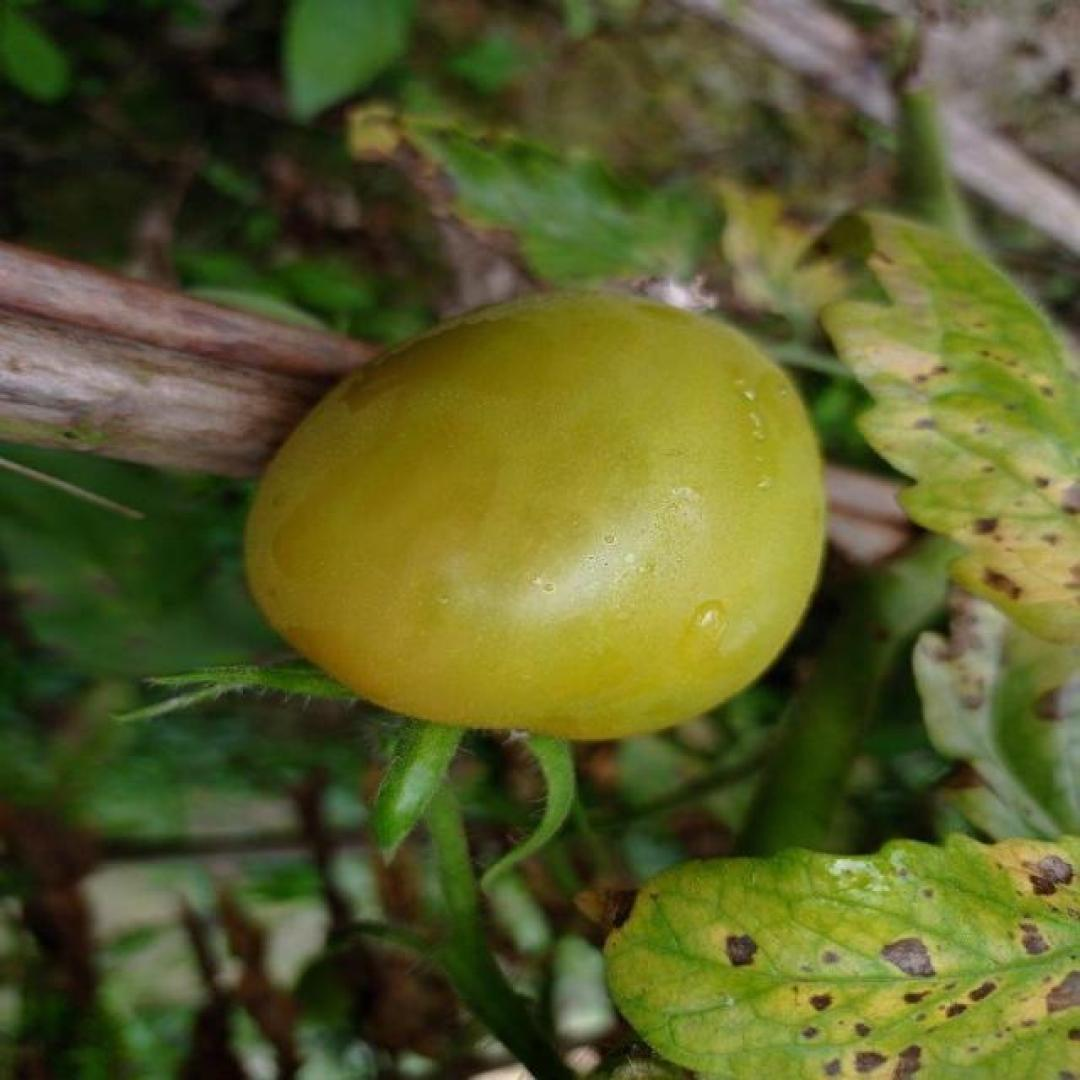setengah_matang: (234, 285, 832, 748)
